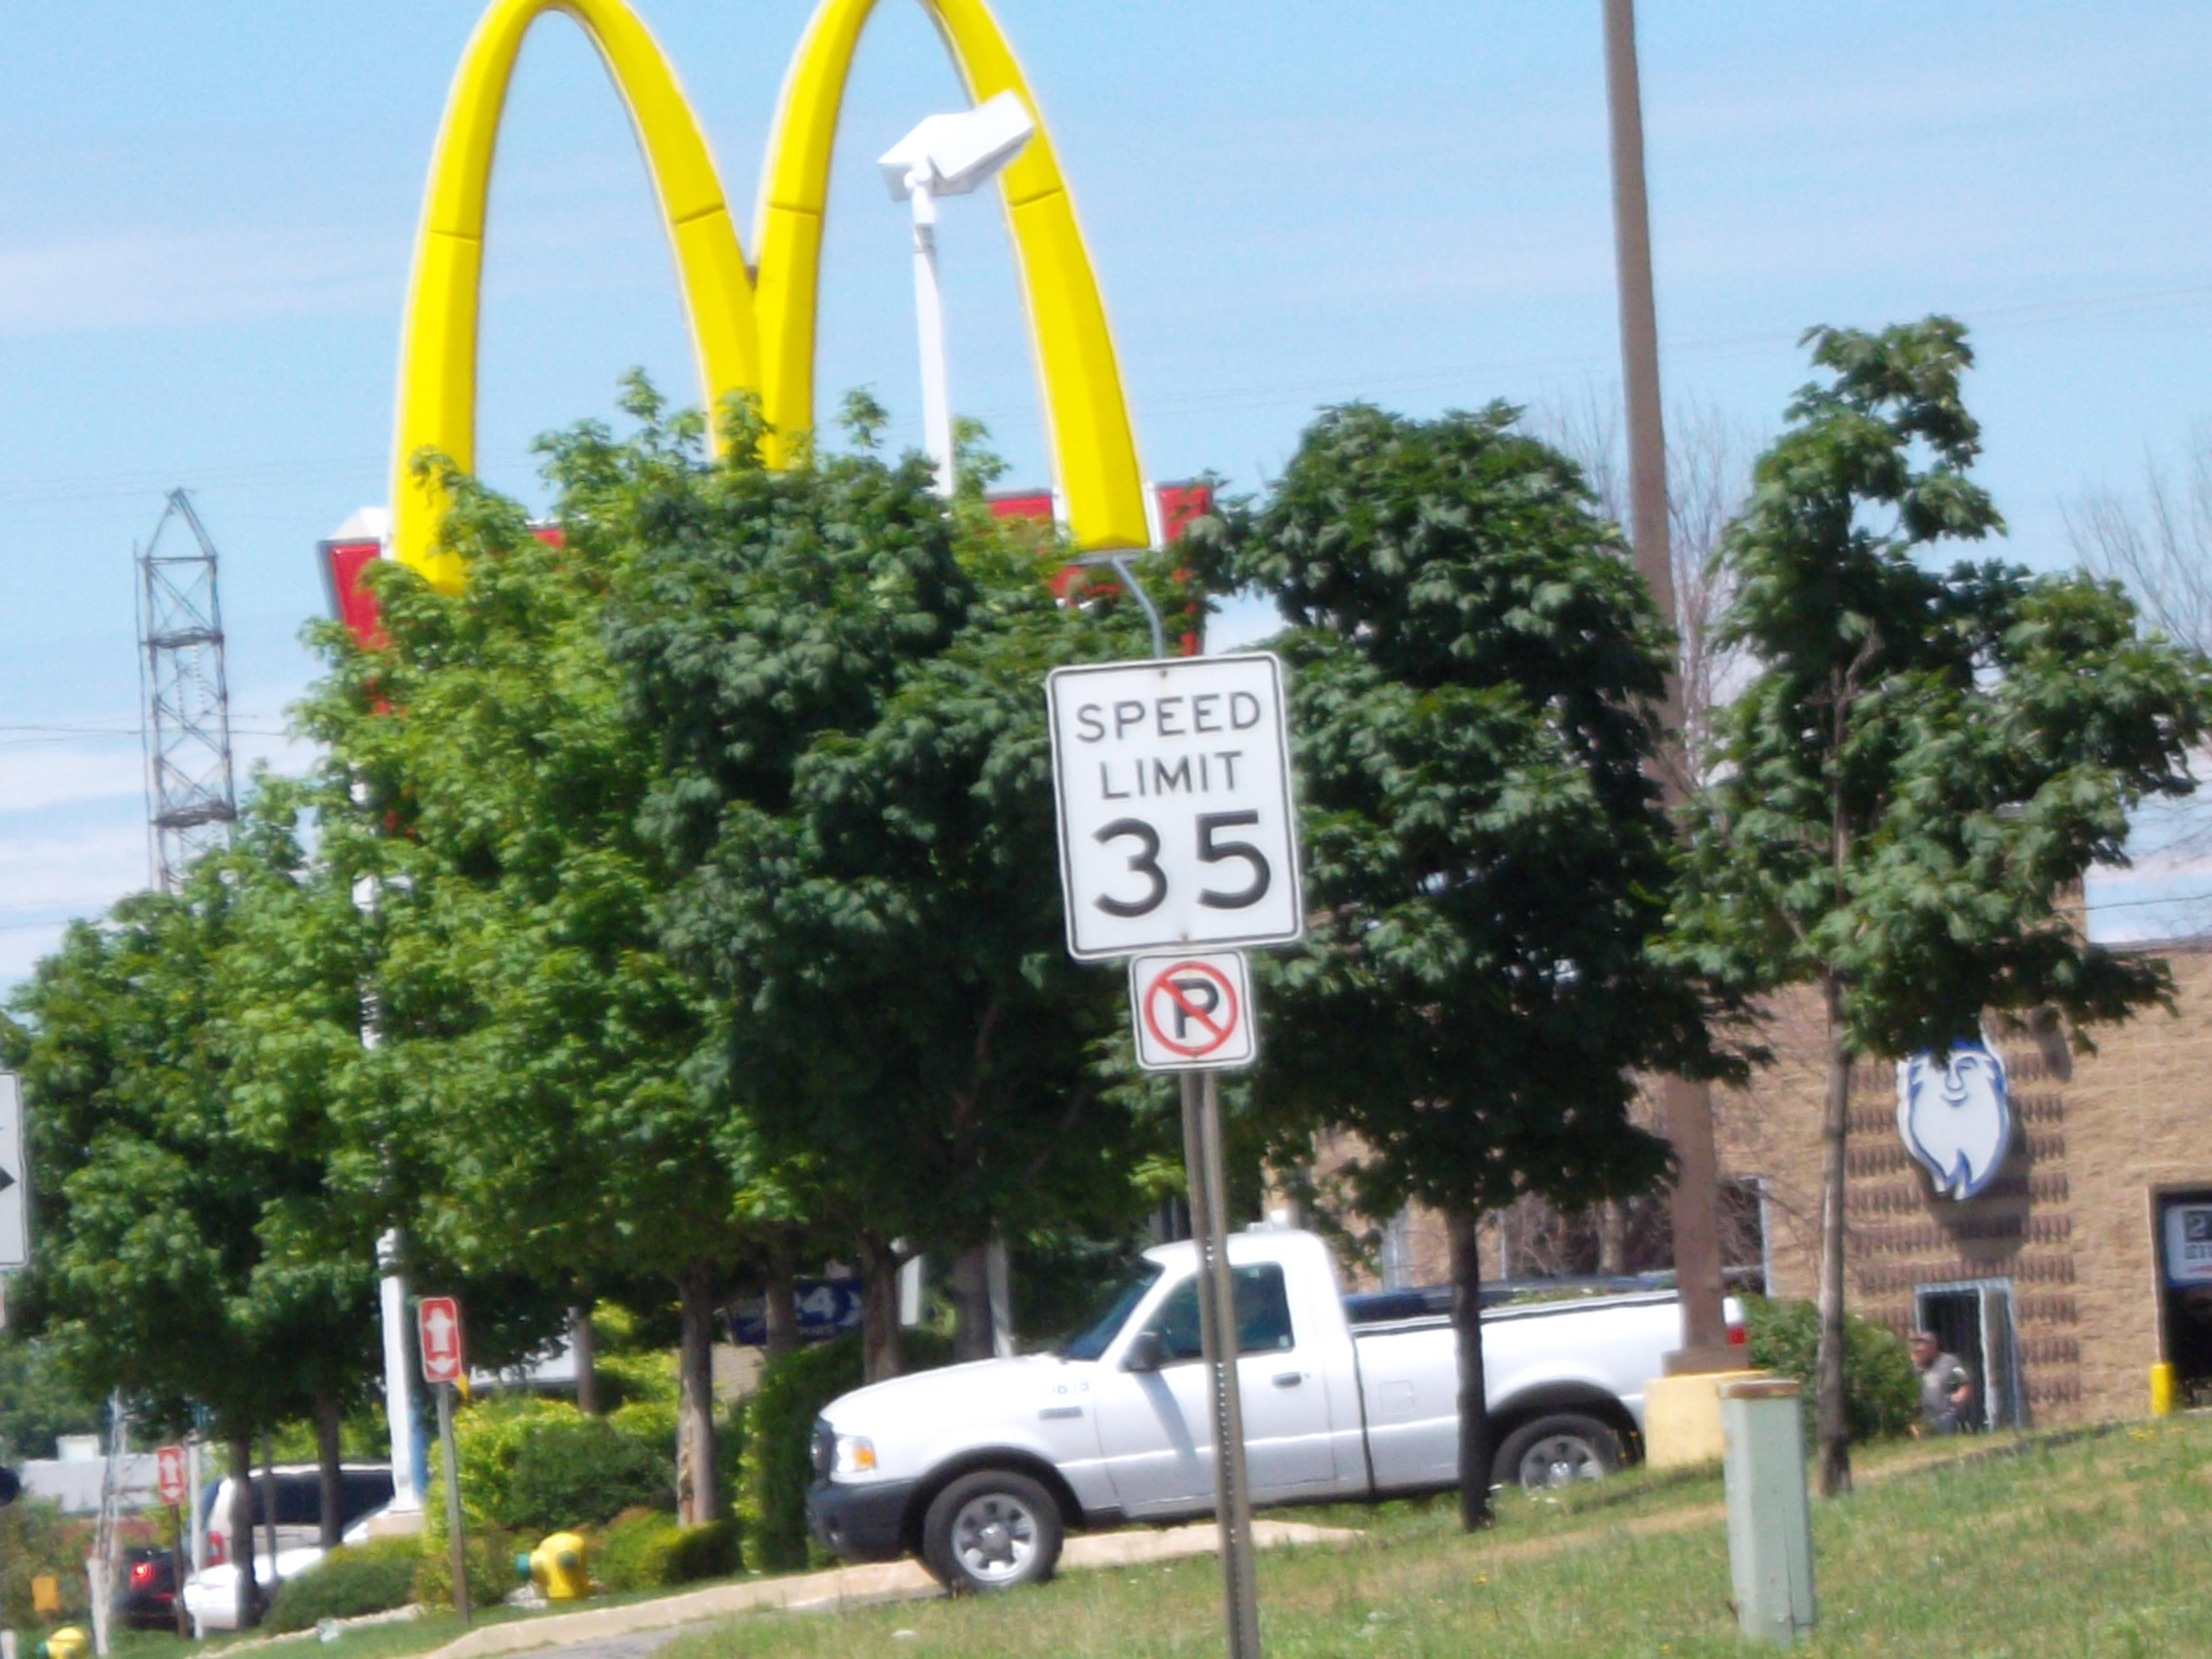regulatory: (1021, 643, 1312, 951), (1118, 953, 1268, 1084)
